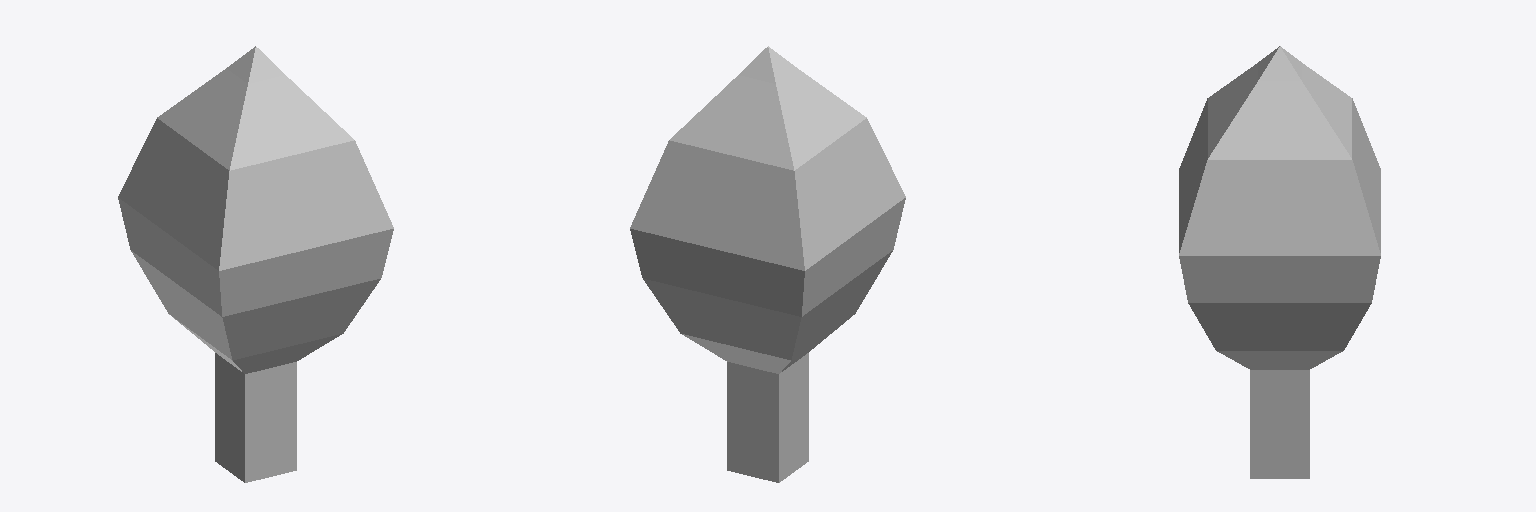
Rendered from LowPolyTree.obj.
The picture shows the model from 3 angles: view 1: azimuth 30°, elevation 25°; view 2: azimuth 150°, elevation 25°; view 3: azimuth 270°, elevation 25°; orthographic projection.
Visible parts, largest first — view 1: Tree; view 2: Tree; view 3: Tree.
Boxes of the visible parts, x1,y1,x2,y2 form: Tree: [118, 46, 393, 482]; Tree: [630, 46, 905, 482]; Tree: [1179, 46, 1380, 478].
Bounding box in the file's own units: 3.36 × 7.7 × 3.36.